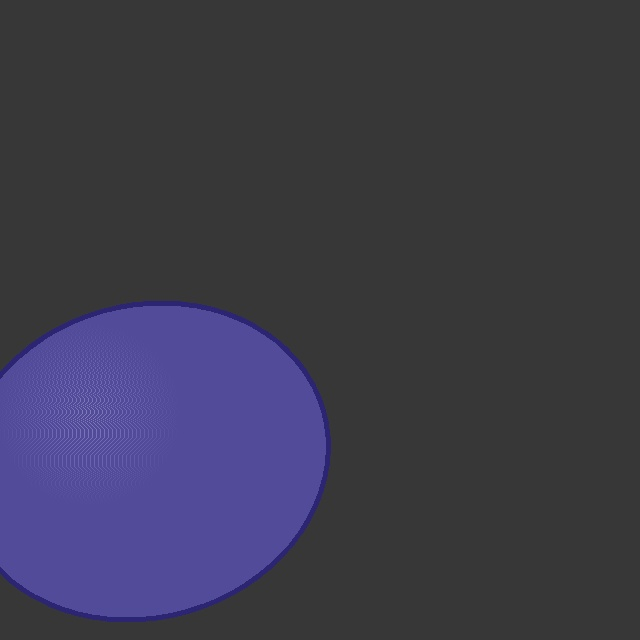lens: (0, 303, 328, 619)
